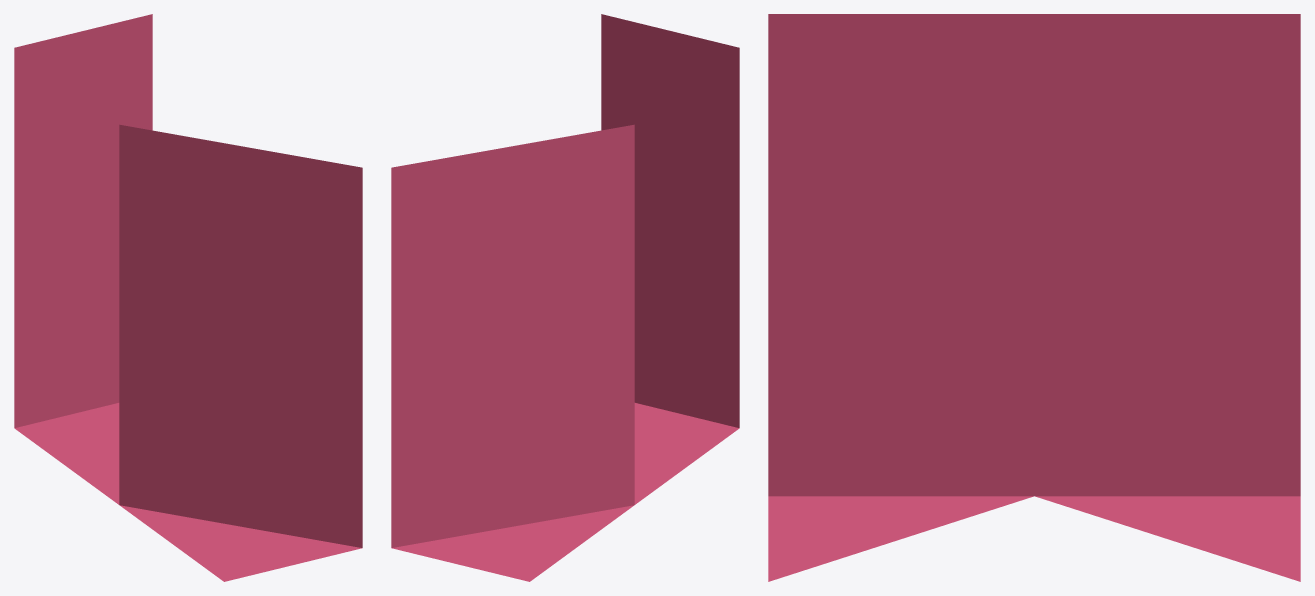
File: r3c7_border_pink.gltf
The picture shows the model from 3 angles, left to right: view 1: azimuth 30°, elevation 25°; view 2: azimuth 150°, elevation 25°; view 3: azimuth 270°, elevation 25°; orthographic projection. The views are drawn at different scales.
Parts seen in each view (by area): view 1: r3c7_border_pink; view 2: r3c7_border_pink; view 3: r3c7_border_pink.
Part boxes in pixels (bbox=[...]): r3c7_border_pink: bbox=[14, 14, 362, 581]; r3c7_border_pink: bbox=[391, 14, 739, 581]; r3c7_border_pink: bbox=[768, 14, 1300, 581].
Size of the model in its own units: 0.8 by 2.1 by 2.1.
1 material, 1 textured.
